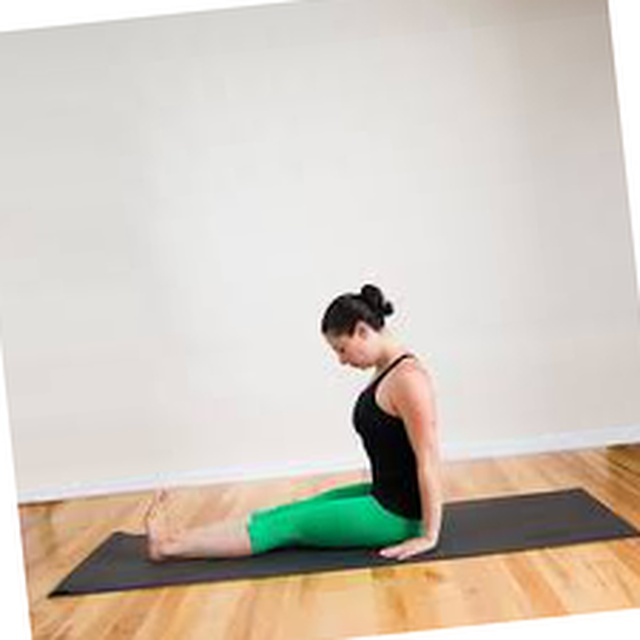Staff_Pose: (142, 283, 445, 566)
